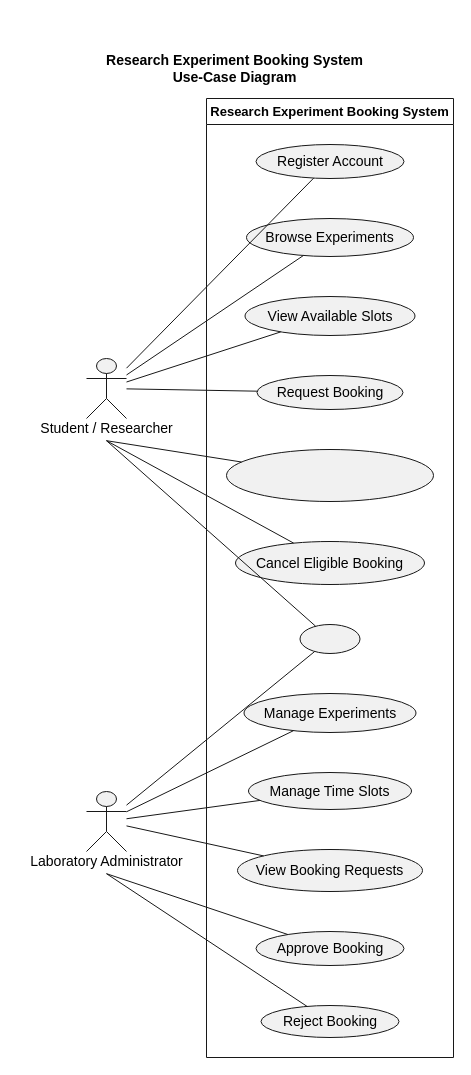
This 471x1075 diagram has some shape labels left out. Each missing label, with the centre of its shape:
"Login" goes at (329,639).
"View Booking Status and History" goes at (330,475).
